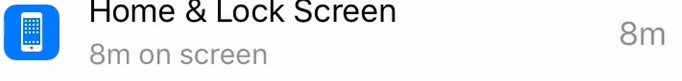name: (83, 1, 410, 31)
time: (86, 38, 137, 73)
